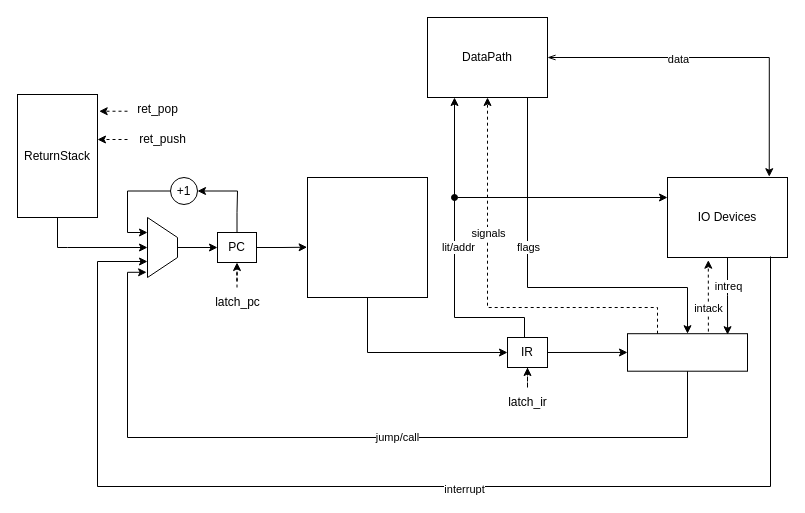
Some shapes in this 805 by 513 pixel diagram are drawn without their labels. The shapes that lost their labels are listed below. From the top down, each one's centre as x and y in pixels, then its label:
At (162,247): "MUX".
At (367,237): "Instruction Memory".
At (687,352): "Instruction Decoder".
